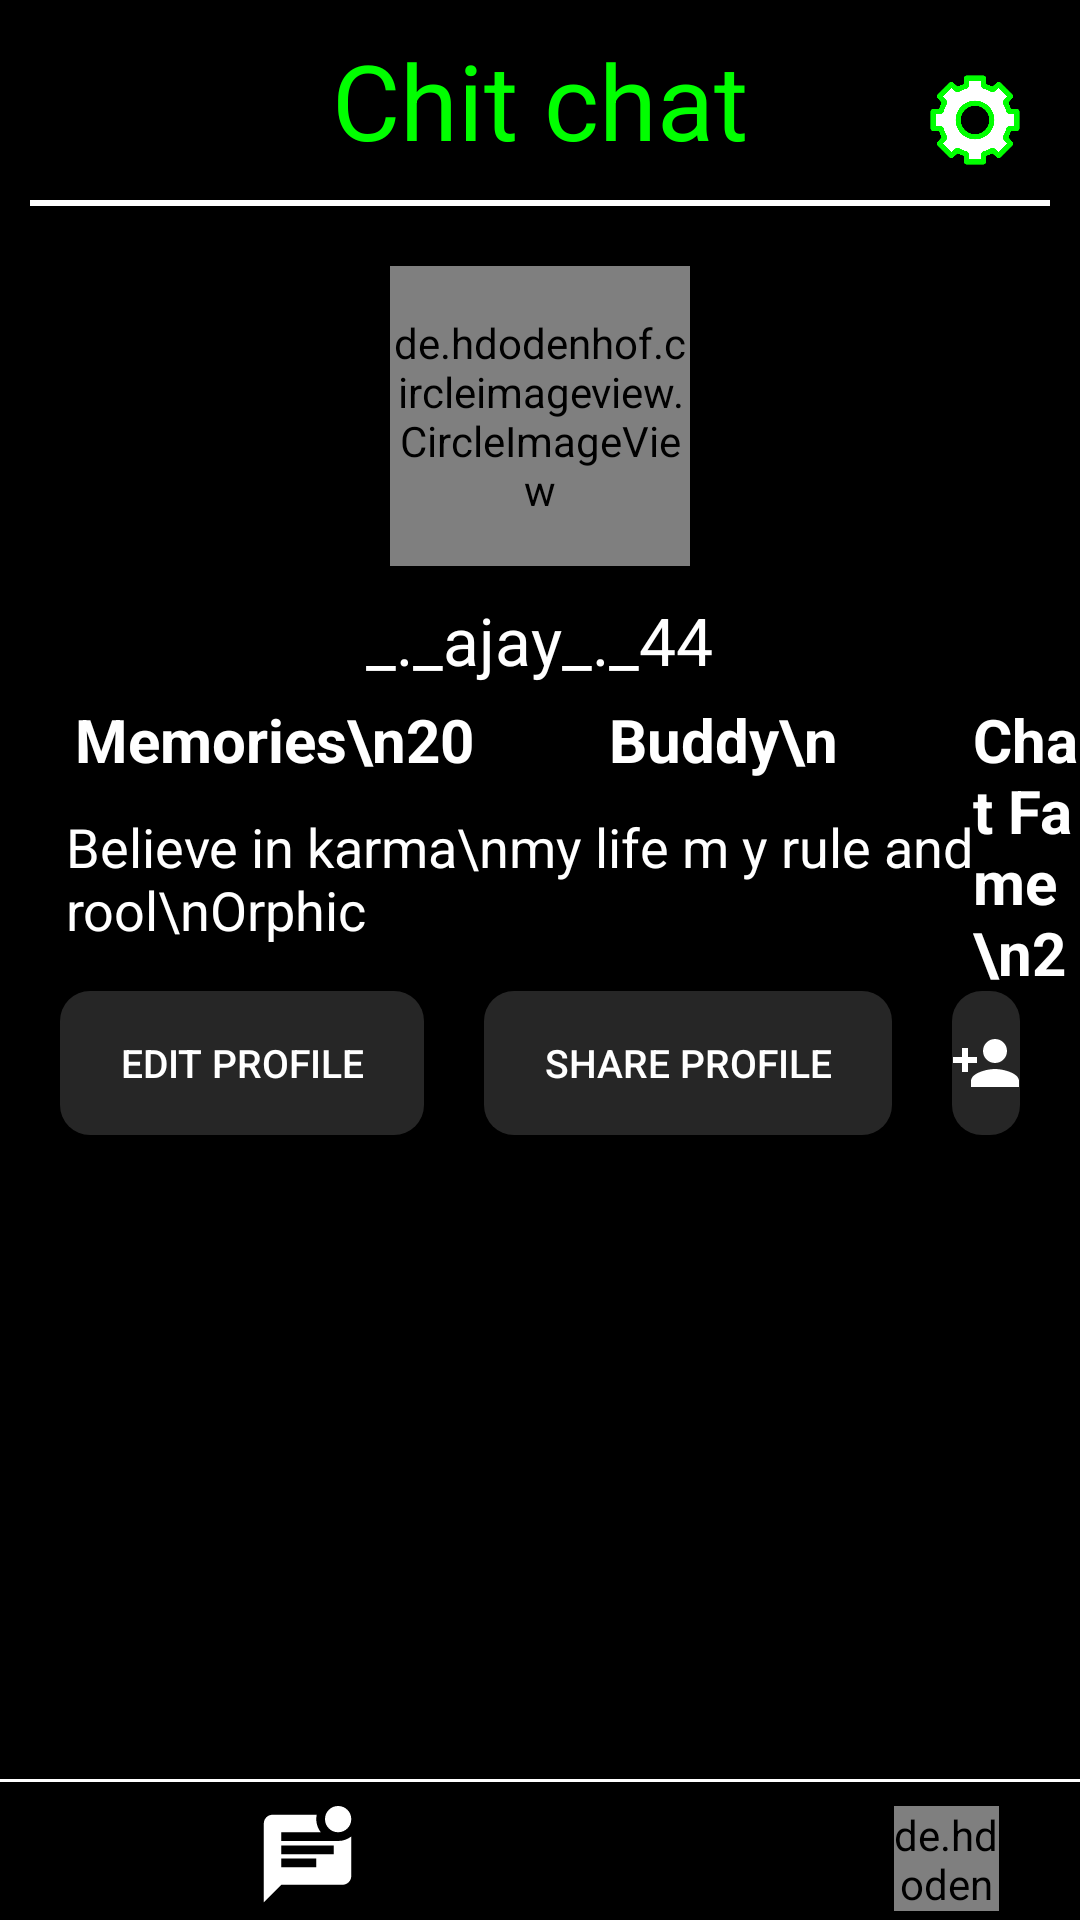

Where icons sit on this 1080px×1920px app screen, as (x1, y1, x2, y2):
add user: (952, 991, 1020, 1135)
chat: (263, 1806, 352, 1902)
settings: (930, 75, 1020, 165)
